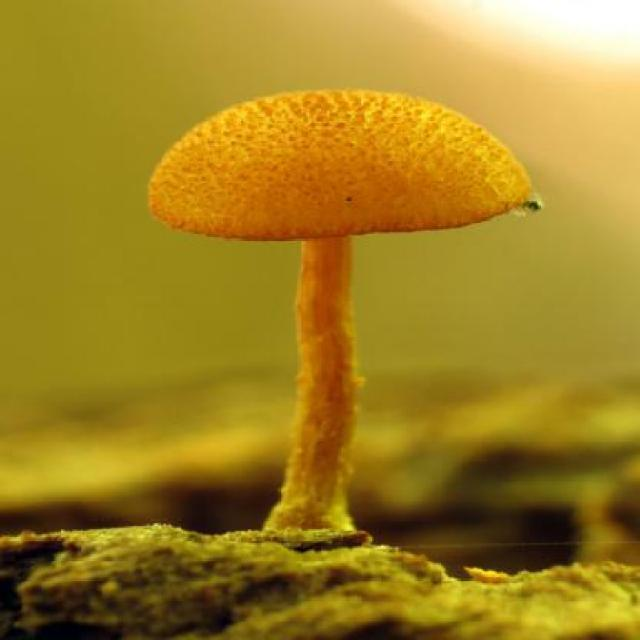Mushroom: (157, 76, 540, 544)
